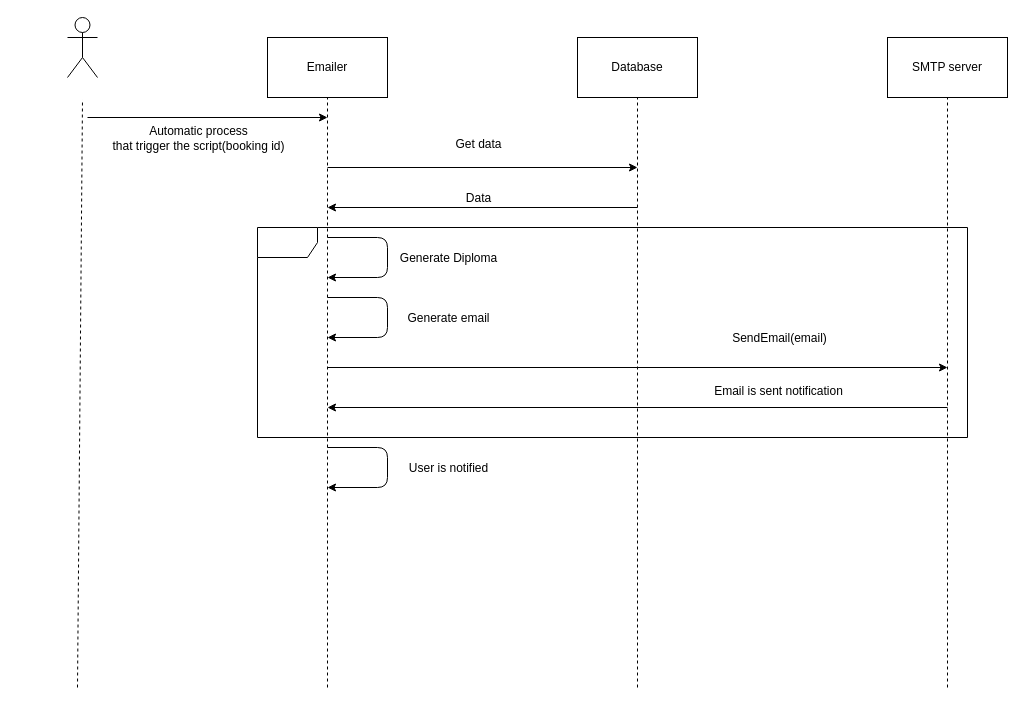
The diagram is 1025 pixels wide and 706 high, and some of its shapes have lost their labels. The shapes that lost their labels are listed below. From the top down, each one's centre as x and y in pixels, then its label:
At pixel 82 47: "The End activities button".
At pixel 612 332: "Loop".
